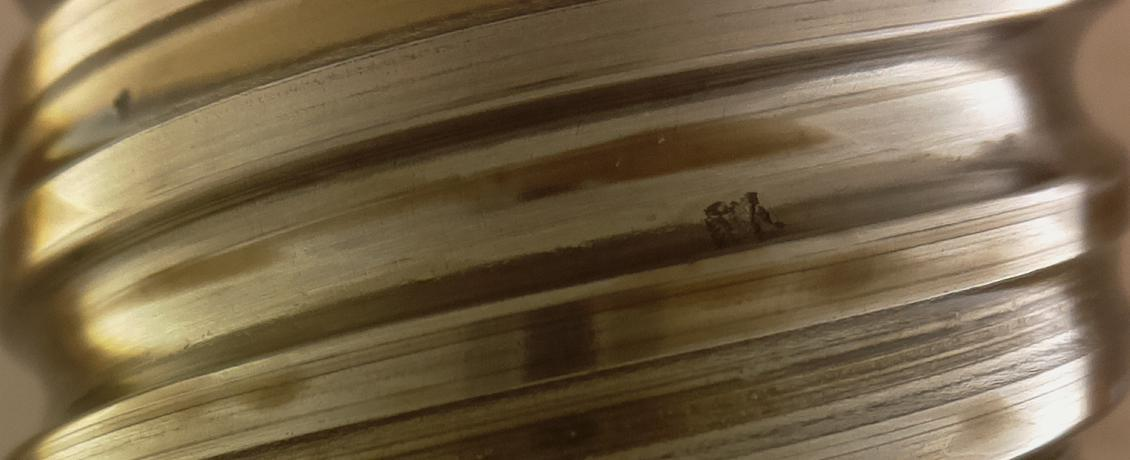pitting: (702, 191, 784, 246)
